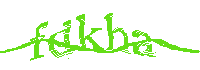a: (130, 30, 157, 58)
d: (48, 17, 75, 58)
f: (30, 20, 47, 60)
h: (104, 12, 131, 54)
k: (75, 13, 104, 53)
